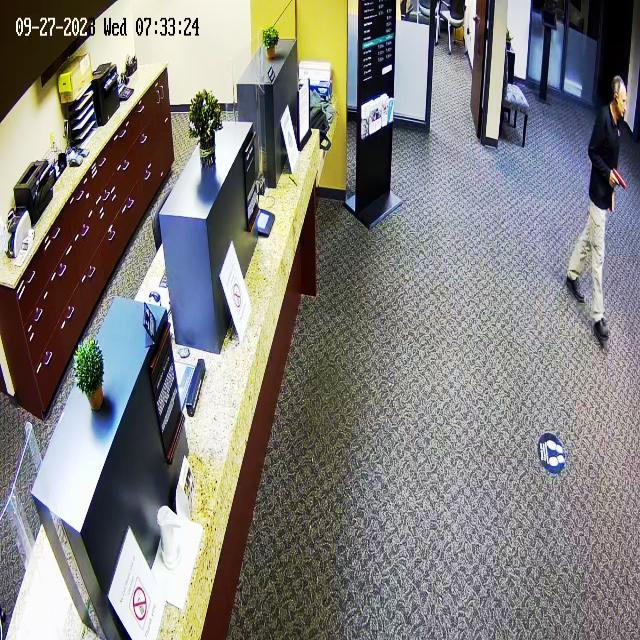Gun: (602, 162, 629, 206)
